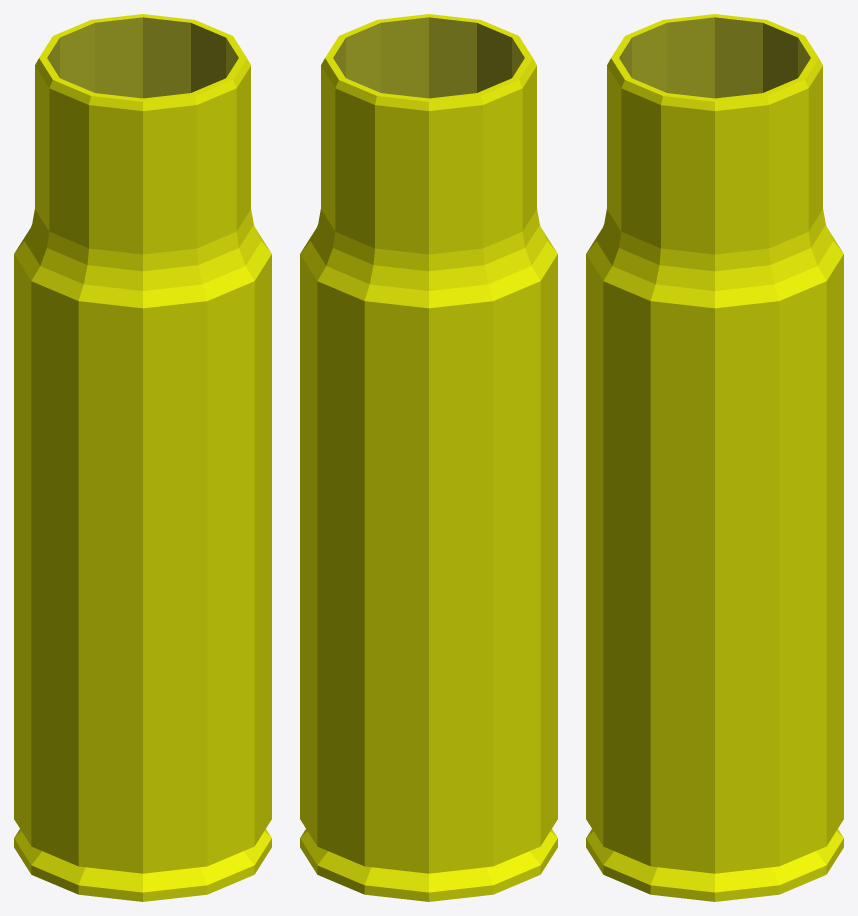
Rendered from 7.62 Casing_3DModel_3.fbx.
The picture shows the model from 3 angles, left to right: view 1: azimuth 30°, elevation 25°; view 2: azimuth 150°, elevation 25°; view 3: azimuth 270°, elevation 25°; orthographic projection.
Parts seen in each view (by area): view 1: Casing; view 2: Casing; view 3: Casing.
Boxes of the visible parts, bbox=[...] form: Casing: bbox=[14, 14, 271, 901]; Casing: bbox=[300, 14, 557, 901]; Casing: bbox=[586, 14, 843, 901].
Bounding box in the file's own units: 0.062 × 0.2095 × 0.062.
